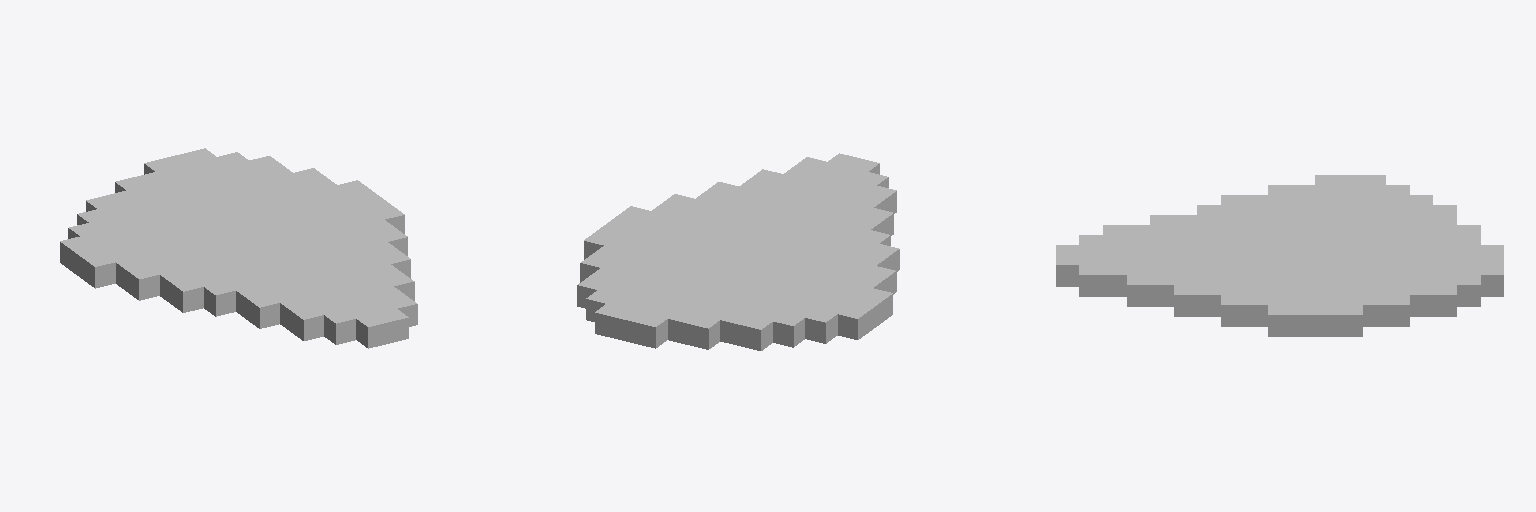
Rendered from SL_Food.obj.
3 views of the same model, side by side, from view 1: azimuth 30°, elevation 25°; view 2: azimuth 150°, elevation 25°; view 3: azimuth 270°, elevation 25° (orthographic).
Parts seen in each view (by area): view 1: SL_Food; view 2: SL_Food; view 3: SL_Food.
Boxes of the visible parts, x1,y1,x2,y2 form: SL_Food: [60, 148, 417, 348]; SL_Food: [577, 153, 899, 350]; SL_Food: [1056, 175, 1503, 336].
Bounding box in the file's own units: 14 × 1 × 19.